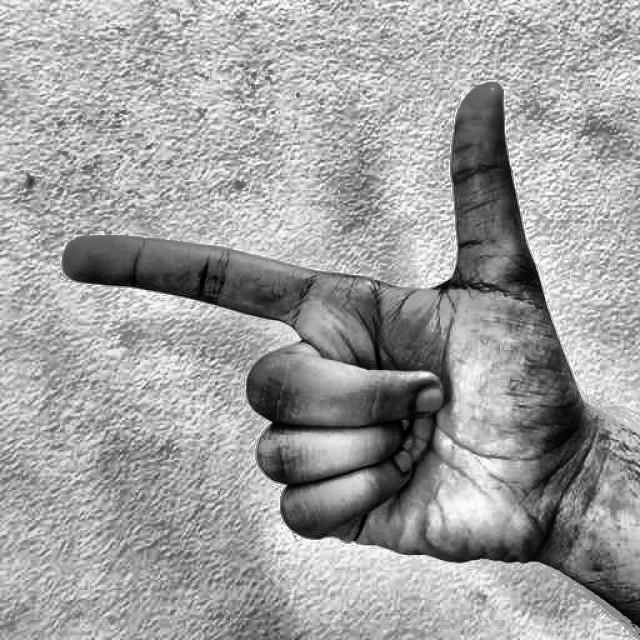Tha: (39, 70, 587, 610)
